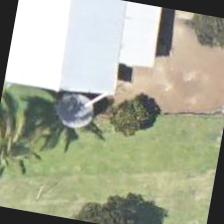Kelapa_Sawit: (0, 94, 55, 193)
